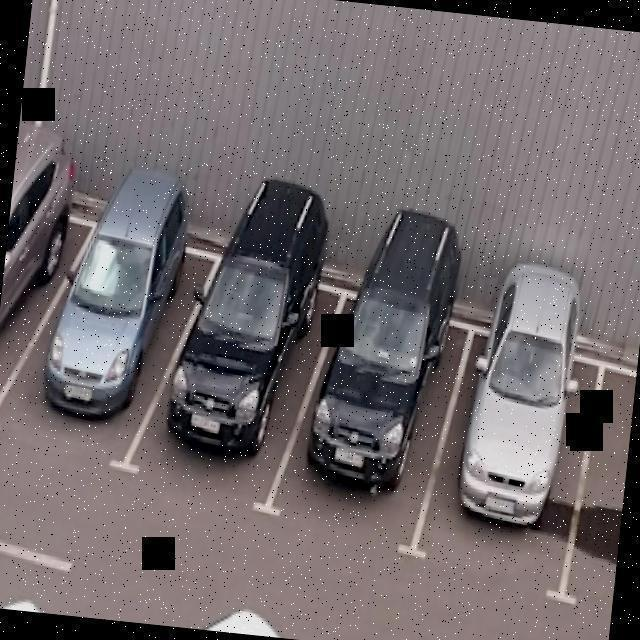space-occupied: (21, 174, 209, 465), (299, 252, 464, 562), (168, 193, 335, 496), (428, 325, 601, 599), (0, 129, 78, 434)
